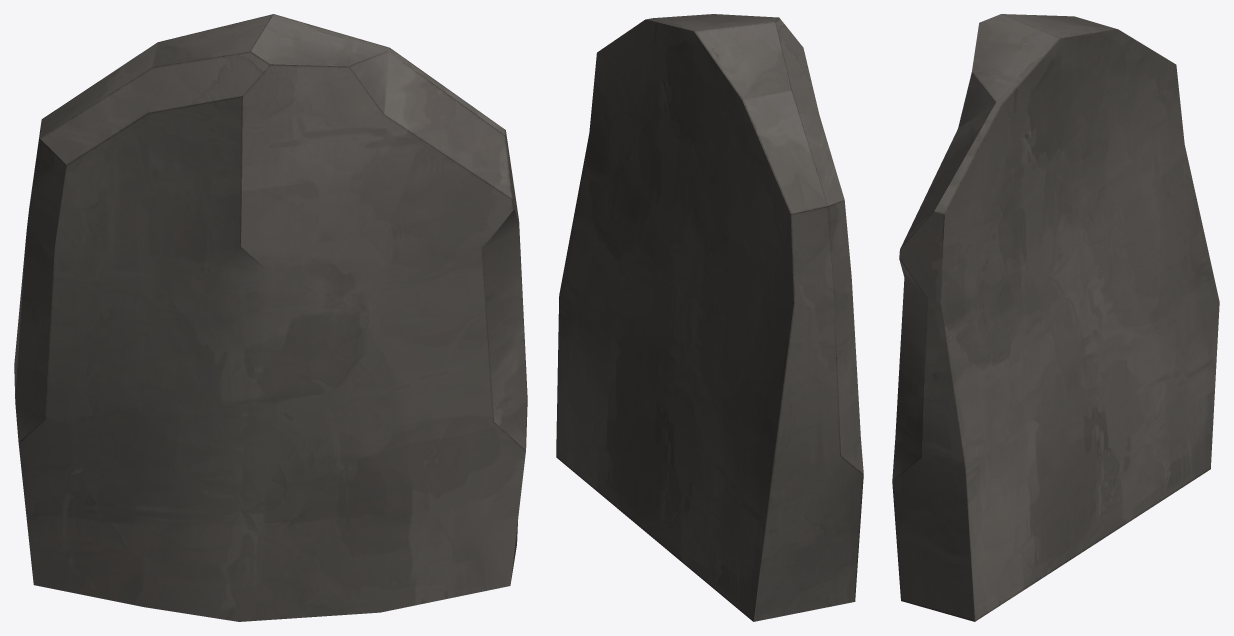
Rendered from Boulder.fbx.
3 views of the same model, side by side, from view 1: azimuth 30°, elevation 25°; view 2: azimuth 150°, elevation 25°; view 3: azimuth 270°, elevation 25° (orthographic). The views are drawn at different scales.
Parts seen in each view (by area): view 1: Boulder_Baked; view 2: Boulder_Baked; view 3: Boulder_Baked.
Part boxes in pixels (x1=…): Boulder_Baked: x1=14, y1=14, x2=527, y2=621; Boulder_Baked: x1=556, y1=14, x2=863, y2=621; Boulder_Baked: x1=892, y1=14, x2=1219, y2=621.
Bounding box in the file's own units: 1809 × 2250 × 1346.
1 material, 1 textured.
